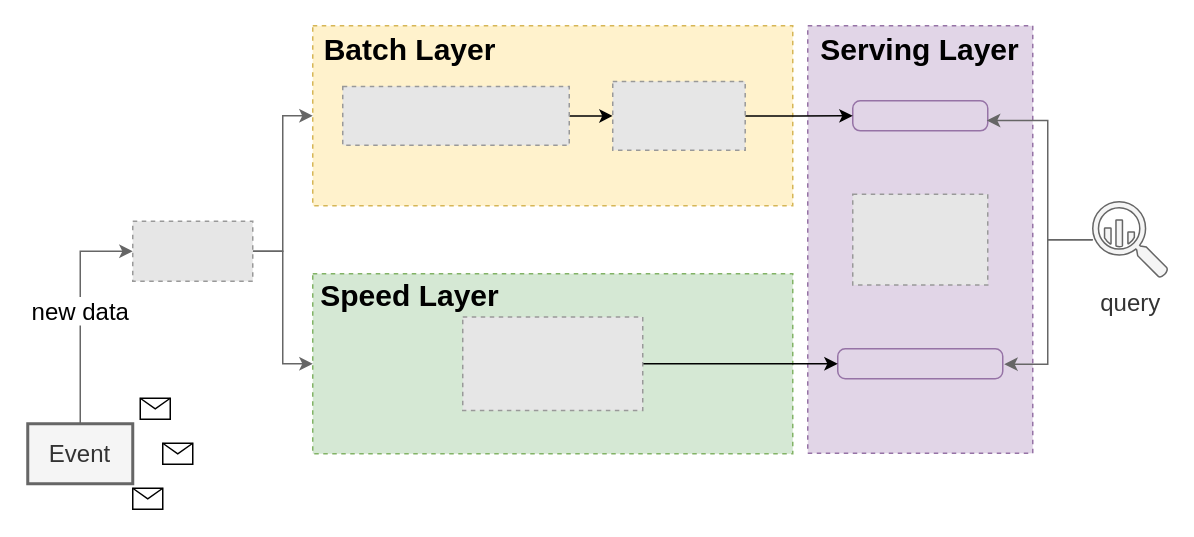
Some shapes in this 1194 by 537 pixel diagram are drawn without their labels. Grey dashed boxes stand in for pictures. The shapes that lost their labels are listed below. From the top down, each one's box as (x1, y1, x2, y2) in pixels, then its label:
(851, 99, 988, 131): Batch view
(836, 347, 1003, 379): Realtime view
